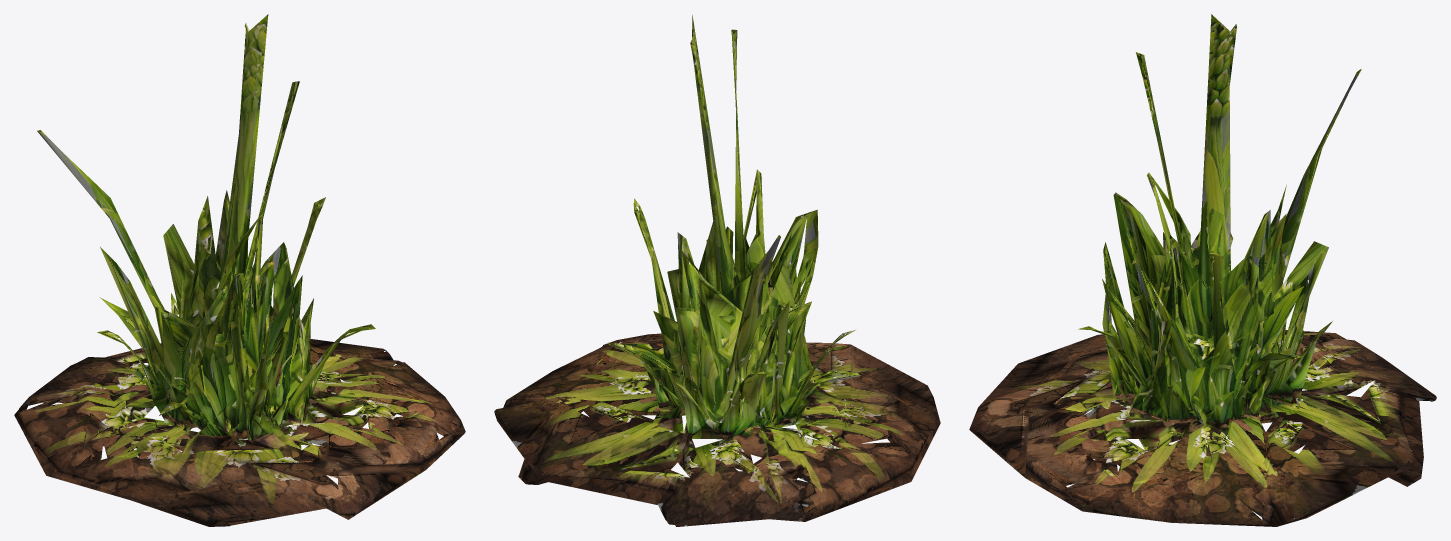
The model's file is Crop_Wheat_Growing.fbx.
3 views of the same model, side by side, from view 1: azimuth 30°, elevation 25°; view 2: azimuth 150°, elevation 25°; view 3: azimuth 270°, elevation 25° (orthographic). The views are drawn at different scales.
Parts seen in each view (by area): view 1: texture_mapping; view 2: texture_mapping; view 3: texture_mapping.
Part boxes in pixels (<box>): texture_mapping: <box>14,14,465,526</box>; texture_mapping: <box>494,15,940,526</box>; texture_mapping: <box>969,14,1436,526</box>.
Bounding box in the file's own units: 0.8683 × 0.8795 × 0.9005.
1 material, 1 textured.
